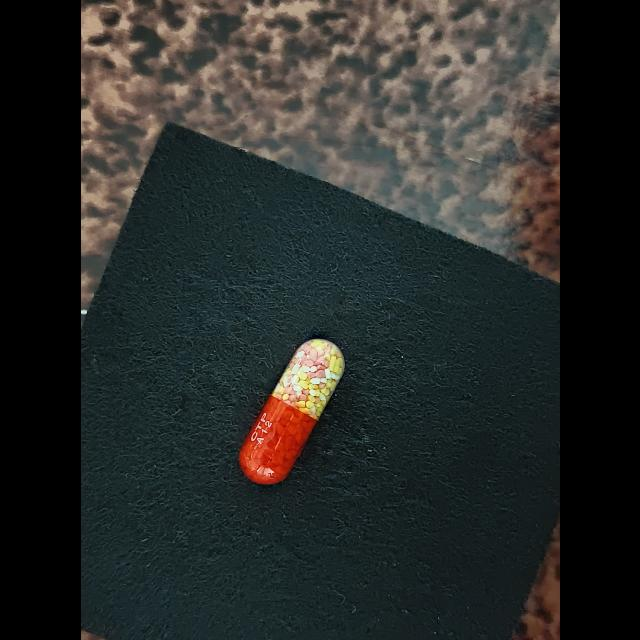Intact Capsule: (238, 339, 344, 484)
